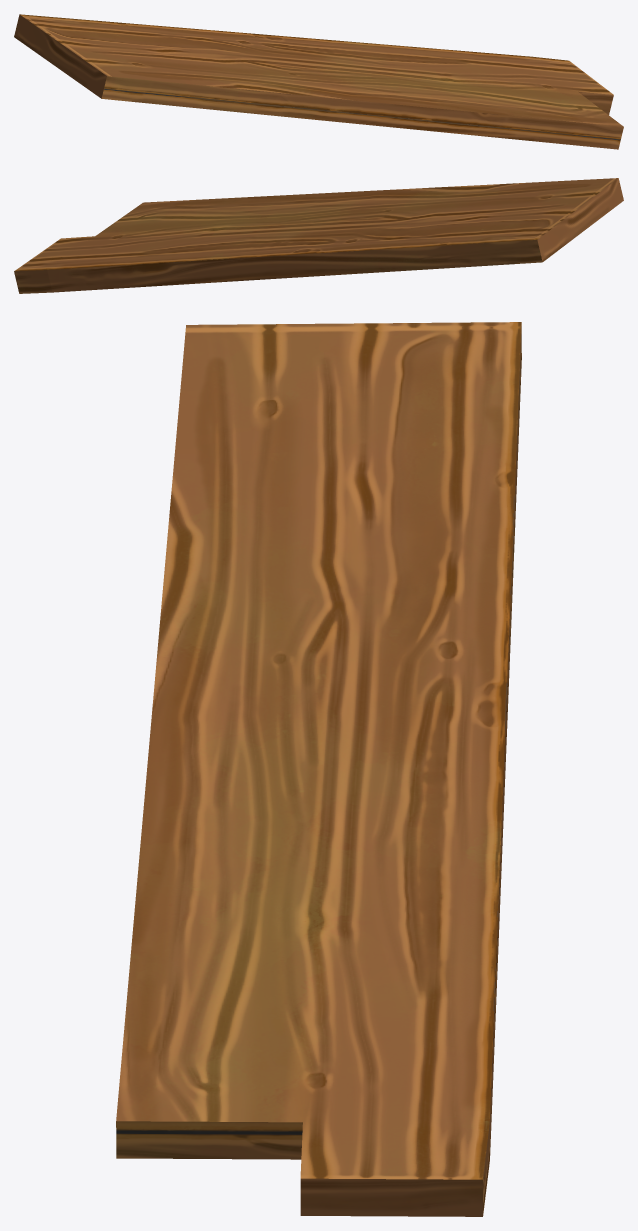
3 renders of one model, top to bottom at view 1: azimuth 30°, elevation 25°; view 2: azimuth 150°, elevation 25°; view 3: azimuth 270°, elevation 25°, orthographic. The views are drawn at different scales.
Parts seen in each view (by area): view 1: Cube.1185; view 2: Cube.1185; view 3: Cube.1185.
Part boxes in pixels (x1,y1,x2,y2): Cube.1185: (14, 14, 623, 149); Cube.1185: (14, 178, 623, 293); Cube.1185: (116, 322, 521, 1216).
Bounding box in the file's own units: 256 × 86.2 × 83.4.
Materials: 1 (1 with a texture image).
